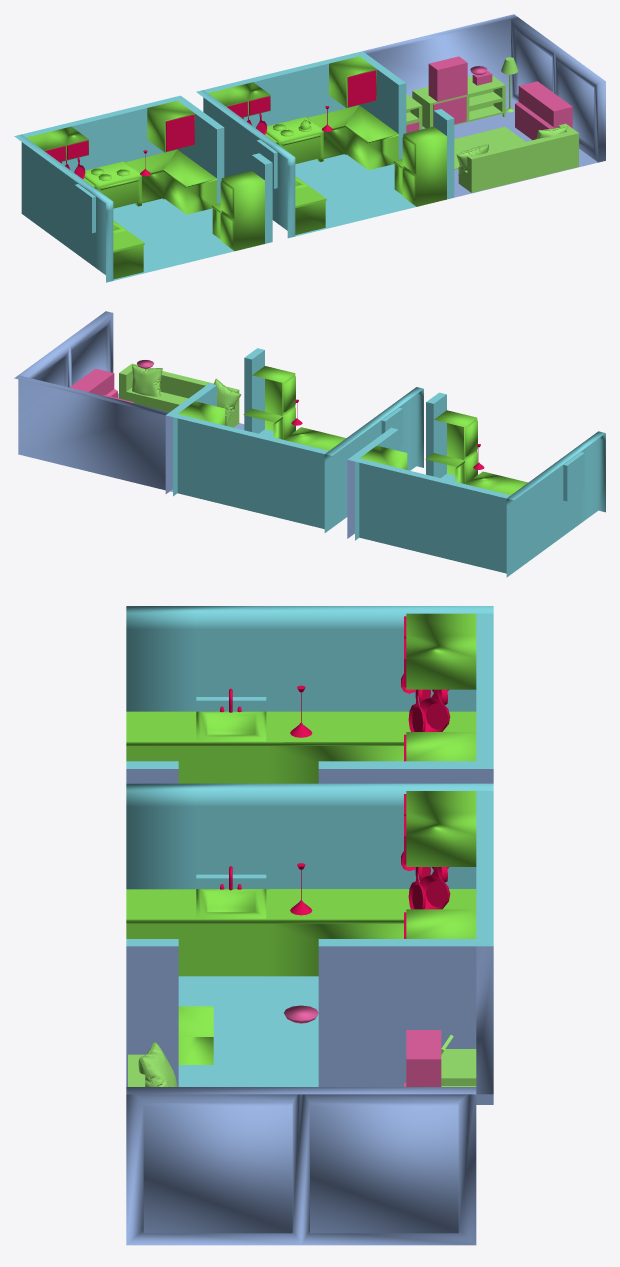
File: Depa_Completo.glb
3 views of the same model, one above another, from view 1: azimuth 30°, elevation 25°; view 2: azimuth 150°, elevation 25°; view 3: azimuth 270°, elevation 25° (orthographic). The views are drawn at different scales.
Visible parts, largest first — view 1: Cocina_Paredes.001, Cocina_Paredes, Estancia_Paredes, Cocina_Barra.001, Cocina_Barra, Estancia_Base, Estancia_Piano, Estancia_Tele, Cocina_PuertasDER, Cocina_PuertasDER.001, Estancia_Base.001, Estancia_Puerta01; view 2: Cocina_Paredes.001, Cocina_Paredes, Estancia_Paredes, Cocina_Barra, Cocina_Barra.001, Estancia_Base, Estancia_Base.001, Estancia_Piano; view 3: Cocina_Paredes, Estancia_Paredes, Cocina_Paredes.001, Cocina_Barra, Cocina_Barra.001, Estancia_Tele, Estancia_Base, Cocina_Sartenes01, Cocina_Sartenes01.001, Estancia_Base.001.
Part boxes in pixels (left/top/right/bottom): Cocina_Paredes.001: left=14, top=95, right=272, bottom=282; Cocina_Paredes: left=196, top=51, right=454, bottom=238; Estancia_Paredes: left=363, top=14, right=605, bottom=197; Cocina_Barra.001: left=26, top=100, right=264, bottom=279; Cocina_Barra: left=208, top=56, right=446, bottom=234; Estancia_Base: left=406, top=57, right=578, bottom=192; Estancia_Piano: left=515, top=81, right=572, bottom=140; Estancia_Tele: left=428, top=56, right=467, bottom=101; Cocina_PuertasDER: left=347, top=70, right=376, bottom=107; Cocina_PuertasDER.001: left=165, top=114, right=194, bottom=151; Estancia_Base.001: left=456, top=126, right=567, bottom=176; Estancia_Puerta01: left=450, top=96, right=466, bottom=124; Cocina_Paredes.001: left=347, top=392, right=605, bottom=577; Cocina_Paredes: left=165, top=348, right=423, bottom=532; Estancia_Paredes: left=14, top=311, right=244, bottom=491; Cocina_Barra: left=178, top=366, right=346, bottom=450; Cocina_Barra.001: left=360, top=410, right=527, bottom=495; Estancia_Base: left=119, top=363, right=239, bottom=427; Estancia_Base.001: left=132, top=364, right=241, bottom=424; Estancia_Piano: left=70, top=368, right=117, bottom=397; Cocina_Paredes: left=126, top=783, right=493, bottom=1104; Estancia_Paredes: left=126, top=946, right=493, bottom=1245; Cocina_Paredes.001: left=126, top=606, right=493, bottom=783; Cocina_Barra: left=126, top=791, right=476, bottom=1064; Cocina_Barra.001: left=126, top=613, right=476, bottom=783; Estancia_Tele: left=406, top=1030, right=441, bottom=1086; Estancia_Base: left=128, top=1035, right=476, bottom=1086; Cocina_Sartenes01: left=408, top=867, right=450, bottom=909; Cocina_Sartenes01.001: left=408, top=689, right=450, bottom=731; Estancia_Base.001: left=138, top=1042, right=177, bottom=1086.
Bounding box in the file's own units: 33 × 5.01 × 10.5.
